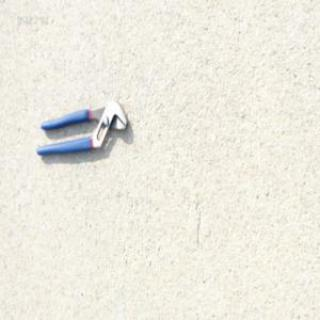Pliertrack_idkeyframe: (34, 98, 127, 157)
